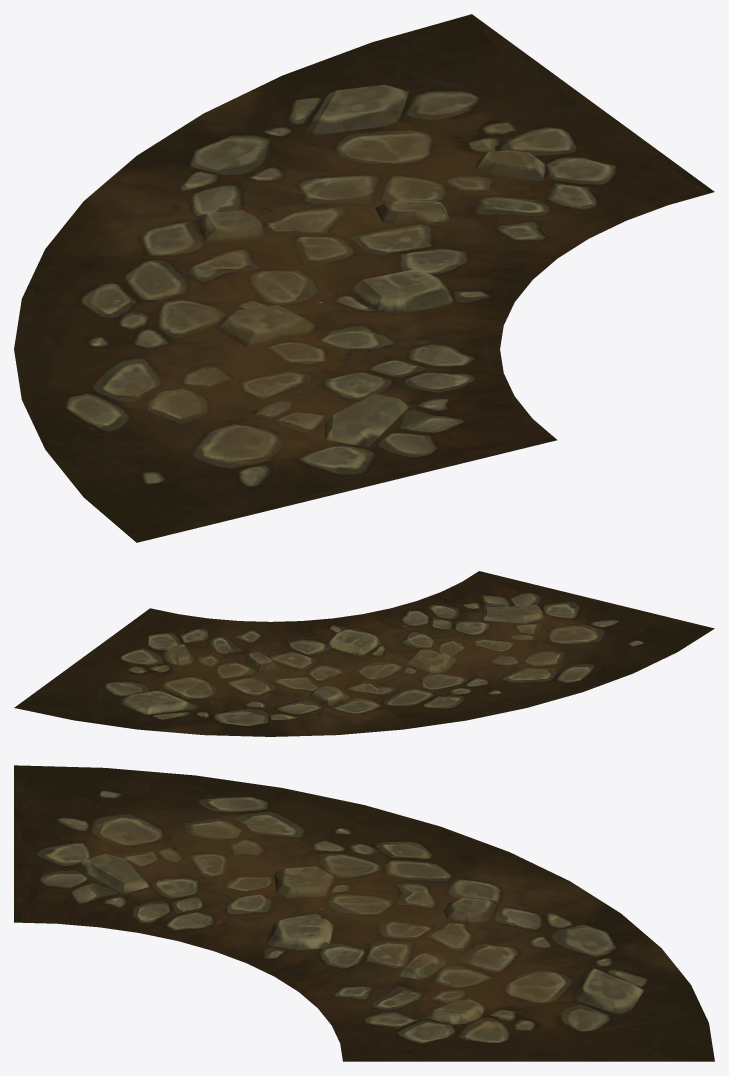
The model's file is road_curve_dirt1b.fbx.
The picture shows the model from 3 angles, top to bottom: view 1: azimuth 30°, elevation 25°; view 2: azimuth 150°, elevation 25°; view 3: azimuth 270°, elevation 25°; orthographic projection. The views are drawn at different scales.
Visible parts, largest first — view 1: obj0.069; view 2: obj0.069; view 3: obj0.069.
Boxes of the visible parts, x1=… form: obj0.069: x1=14, y1=14, x2=714, y2=542; obj0.069: x1=14, y1=571, x2=714, y2=736; obj0.069: x1=14, y1=765, x2=714, y2=1061.
Bounding box in the file's own units: 15.99 × 0.1764 × 15.99.
